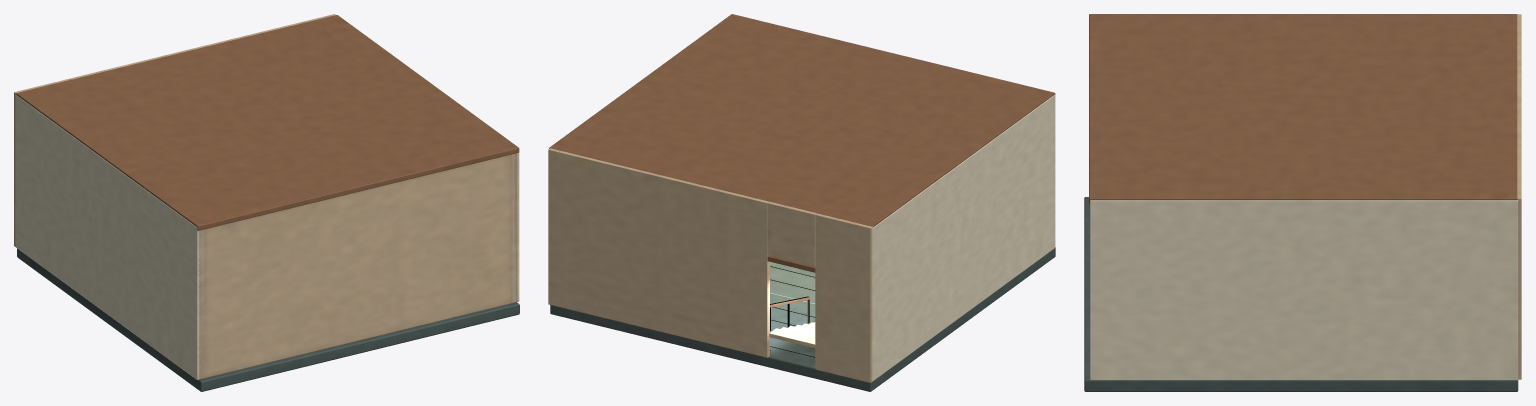
File: beacon.glb
3 renders of one model, left to right at view 1: azimuth 30°, elevation 25°; view 2: azimuth 150°, elevation 25°; view 3: azimuth 270°, elevation 25°, orthographic. The views are drawn at different scales.
Visible parts, largest first — view 1: VIS · Beacon chamber; view 2: VIS · Beacon chamber; view 3: VIS · Beacon chamber.
Part boxes in pixels (left/top/right/bottom): VIS · Beacon chamber: left=14, top=14, right=519, bottom=391; VIS · Beacon chamber: left=548, top=14, right=1055, bottom=391; VIS · Beacon chamber: left=1084, top=14, right=1521, bottom=391.
Size of the model in its own units: 11.82 by 5.79 by 11.79.
9 materials, 9 textured.
